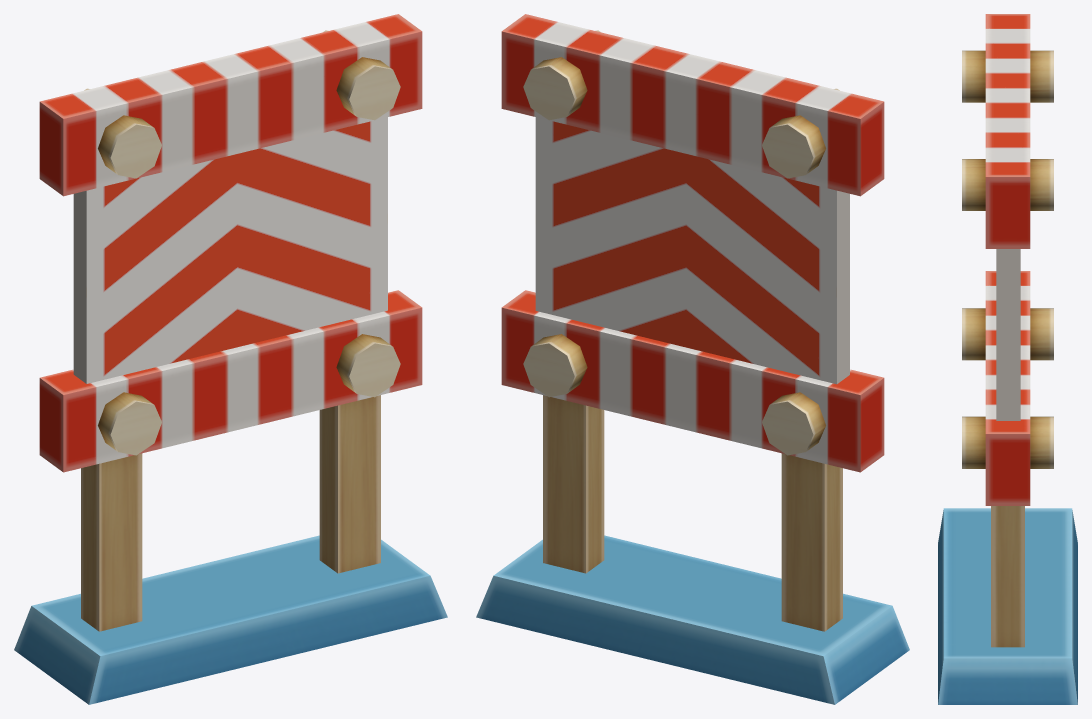
File: Trap03.FBX
3 views of the same model, side by side, from view 1: azimuth 30°, elevation 25°; view 2: azimuth 150°, elevation 25°; view 3: azimuth 270°, elevation 25° (orthographic). The views are drawn at different scales.
Visible parts, largest first — view 1: Trap03; view 2: Trap03; view 3: Trap03.
Boxes of the visible parts, left/top/right/bottom form: Trap03: left=14, top=14, right=447, bottom=704; Trap03: left=476, top=14, right=909, bottom=704; Trap03: left=938, top=14, right=1077, bottom=704.
Bounding box in the file's own units: 140 × 211 × 50.69.
